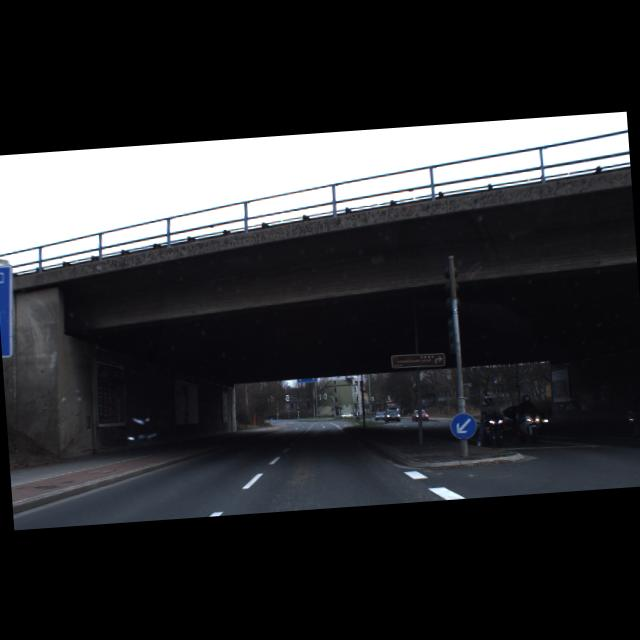mandatory: (448, 412, 476, 439)
